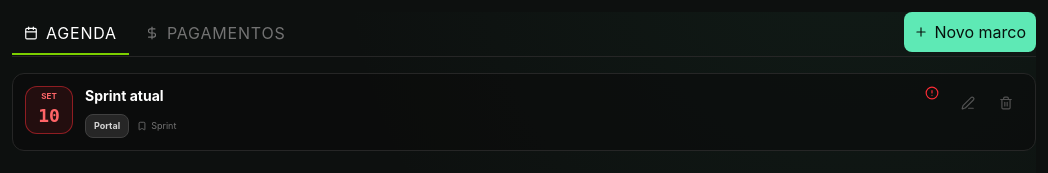
Scenario: DeadlineCalendar › carrega pagamentos dos projetos ao abrir a aba
Click the button "Pagamentos" at point(215, 34), box [133, 13, 298, 55]
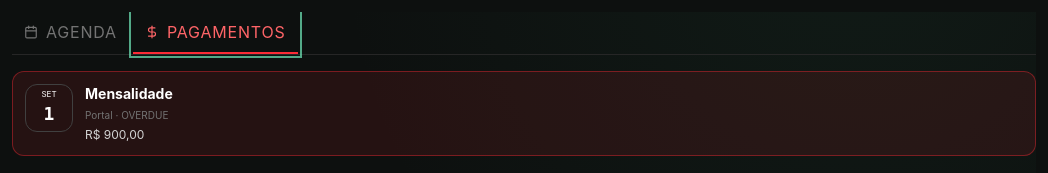
expect the heading "Mensalidade" is shown: met, box [85, 85, 173, 102]
